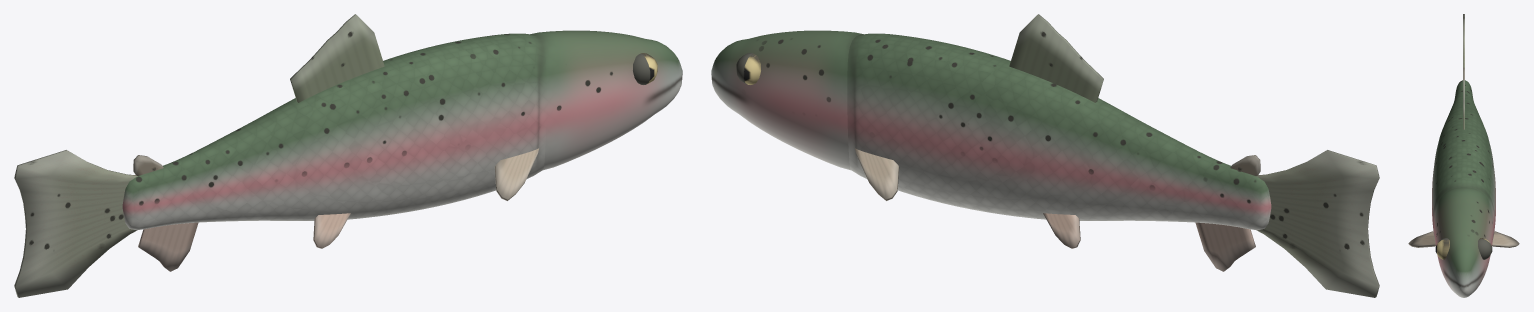
File: fish_trout.fbx
3 views of the same model, side by side, from view 1: azimuth 30°, elevation 25°; view 2: azimuth 150°, elevation 25°; view 3: azimuth 270°, elevation 25° (orthographic). The views are drawn at different scales.
Parts seen in each view (by area): view 1: fish_trout; view 2: fish_trout; view 3: fish_trout.
Part boxes in pixels (x1,y1,x2,y2): fish_trout: (14, 14, 682, 297); fish_trout: (711, 14, 1379, 297); fish_trout: (1408, 14, 1519, 297).
Size of the model in its own units: 39.72 by 12.01 by 8.32.
Materials: 1 (1 with a texture image).
